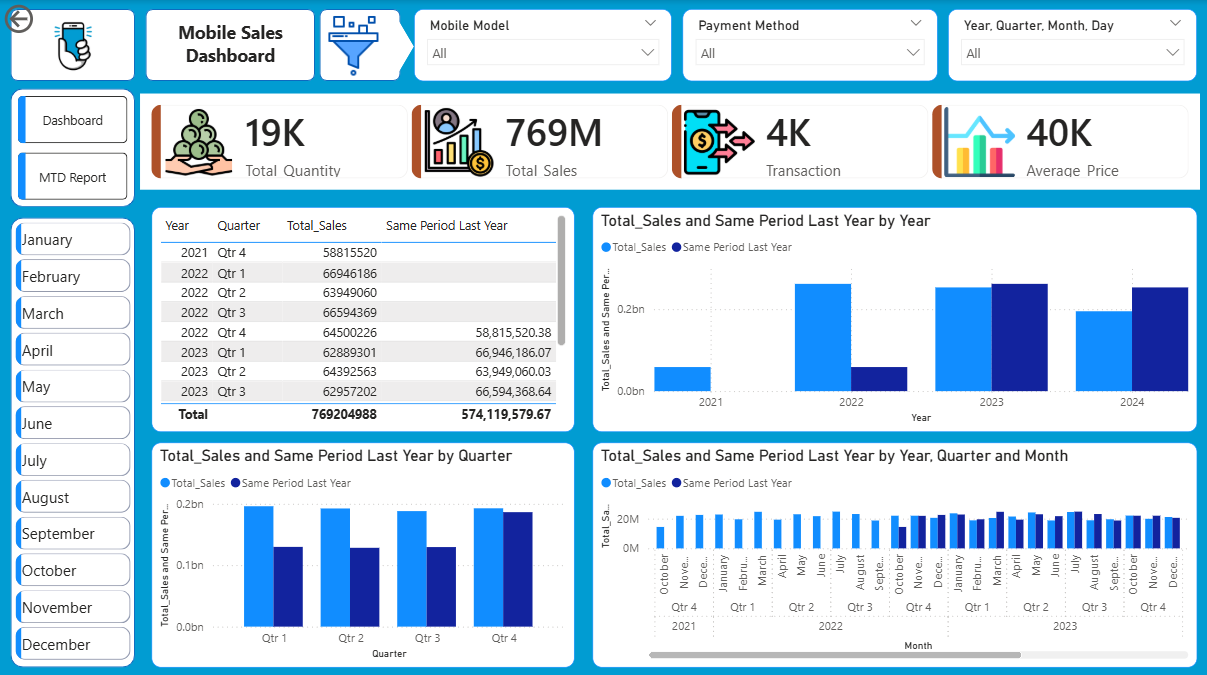

What the dashboard file says about the page in this screenshot:
{"tool":"powerbi","page":{"name":"Same Period of Last Year","canvas":[1280,720],"ordinal":2},"visuals":[{"type":"shape","box":[11.1,9.5,132,76.3],"z":0},{"type":"image","box":[28.6,11.1,98.6,70],"z":1000},{"type":"shape","box":[11.1,93.8,132,125.7],"z":2000},{"type":"shape","box":[11.1,230.6,132,477.2],"z":3000},{"type":"advancedSlicerVisual","fields":{"Values":["Custom_Calendar.Date.Variation.Date Hierarchy.Month"]},"box":[11.1,230.6,132,477.2],"z":4000},{"type":"cardVisual","fields":{"Data":["Sales_Data.Total_Quantity","Sales_Data.Total_Sales","Sales_Data.Transaction","Sales_Data.Average_Price"]},"box":[143.2,93.8,1137.3,112.9],"z":5000},{"type":"slicer","fields":{"Values":["Sales_Data.Mobile Model"]},"box":[439,9.5,273.6,76.3],"z":6000},{"type":"slicer","fields":{"Values":["Sales_Data.Payment Method"]},"box":[723.7,9.5,270.4,76.3],"z":7000},{"type":"slicer","fields":{"Values":["Custom_Calendar.Date.Variation.Date Hierarchy.Year","Custom_Calendar.Date.Variation.Date Hierarchy.Quarter","Custom_Calendar.Date.Variation.Date Hierarchy.Month","Custom_Calendar.Date.Variation.Date Hierarchy.Day"]},"box":[1005.3,9.5,264,76.3],"z":8000},{"type":"shape","box":[338.8,9.5,85.9,76.3],"z":9000},{"type":"image","box":[338.8,15.9,71.6,65.2],"z":10000},{"type":"shape","box":[407.2,22.3,31.8,54.1],"z":11000},{"type":"shape","box":[154.3,9.5,179.7,76.3],"z":12000},{"type":"textbox","box":[167,15.9,154.3,60.4],"z":13000},{"type":"actionButton","box":[0,0,100,40],"z":14000},{"type":"tableEx","fields":{"Values":["Custom_Calendar.Date.Variation.Date Hierarchy.Year","Custom_Calendar.Date.Variation.Date Hierarchy.Quarter","Sales_Data.Total_Sales","Sales_Data.Same Period Last Year"]},"box":[160.7,219.5,448.6,238.6],"z":15000},{"type":"clusteredColumnChart","fields":{"Category":["Custom_Calendar.Date.Variation.Date Hierarchy.Year"],"Y":["Sales_Data.Total_Sales","Sales_Data.Same Period Last Year"]},"box":[628.3,219.5,641,238.6],"z":16000},{"type":"clusteredColumnChart","fields":{"Y":["Sales_Data.Total_Sales","Sales_Data.Same Period Last Year"],"Category":["Custom_Calendar.Date.Variation.Date Hierarchy.Year","Custom_Calendar.Date.Variation.Date Hierarchy.Quarter","Custom_Calendar.Date.Variation.Date Hierarchy.Month"]},"box":[628.3,469.2,641,238.6],"z":17000},{"type":"clusteredColumnChart","fields":{"Y":["Sales_Data.Total_Sales","Sales_Data.Same Period Last Year"],"Category":["Custom_Calendar.Date.Variation.Date Hierarchy.Year","Custom_Calendar.Date.Variation.Date Hierarchy.Quarter"]},"box":[160.7,469.2,448.6,238.6],"z":18000},{"type":"pageNavigator","box":[19.1,101.8,116.1,111.3],"z":19000}]}

Visuals, with their boxes in screenshot pixels (x1, y1, x2, y2), scaled from the page's 1280x720 canvas onto the 1207x675 screenshot:
shape: (10, 9, 135, 80)
image: (27, 10, 120, 76)
shape: (10, 88, 135, 206)
shape: (10, 216, 135, 664)
advancedSlicerVisual - Custom_Calendar.Date.Variation.Date Hierarchy.Month: (10, 216, 135, 664)
cardVisual - Sales_Data.Total_Quantity x Sales_Data.Total_Sales: (135, 88, 1206, 194)
slicer - Sales_Data.Mobile Model: (414, 9, 672, 80)
slicer - Sales_Data.Payment Method: (682, 9, 937, 80)
slicer - Custom_Calendar.Date.Variation.Date Hierarchy.Year x Custom_Calendar.Date.Variation.Date Hierarchy.Quarter: (948, 9, 1197, 80)
shape: (319, 9, 400, 80)
image: (319, 15, 387, 76)
shape: (384, 21, 414, 72)
shape: (146, 9, 315, 80)
textbox: (157, 15, 303, 72)
actionButton: (0, 0, 94, 38)
tableEx - Custom_Calendar.Date.Variation.Date Hierarchy.Year x Custom_Calendar.Date.Variation.Date Hierarchy.Quarter: (152, 206, 575, 429)
clusteredColumnChart - Custom_Calendar.Date.Variation.Date Hierarchy.Year x Sales_Data.Total_Sales: (592, 206, 1197, 429)
clusteredColumnChart - Sales_Data.Total_Sales x Sales_Data.Same Period Last Year: (592, 440, 1197, 664)
clusteredColumnChart - Sales_Data.Total_Sales x Sales_Data.Same Period Last Year: (152, 440, 575, 664)
pageNavigator: (18, 95, 127, 200)
